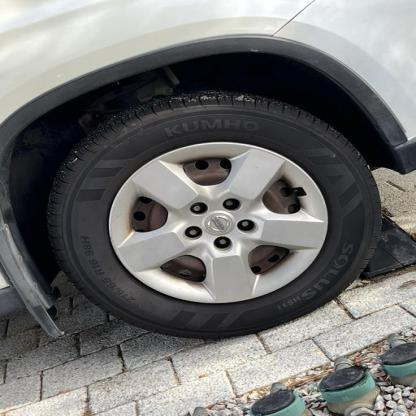Tire: (47, 91, 381, 339)
